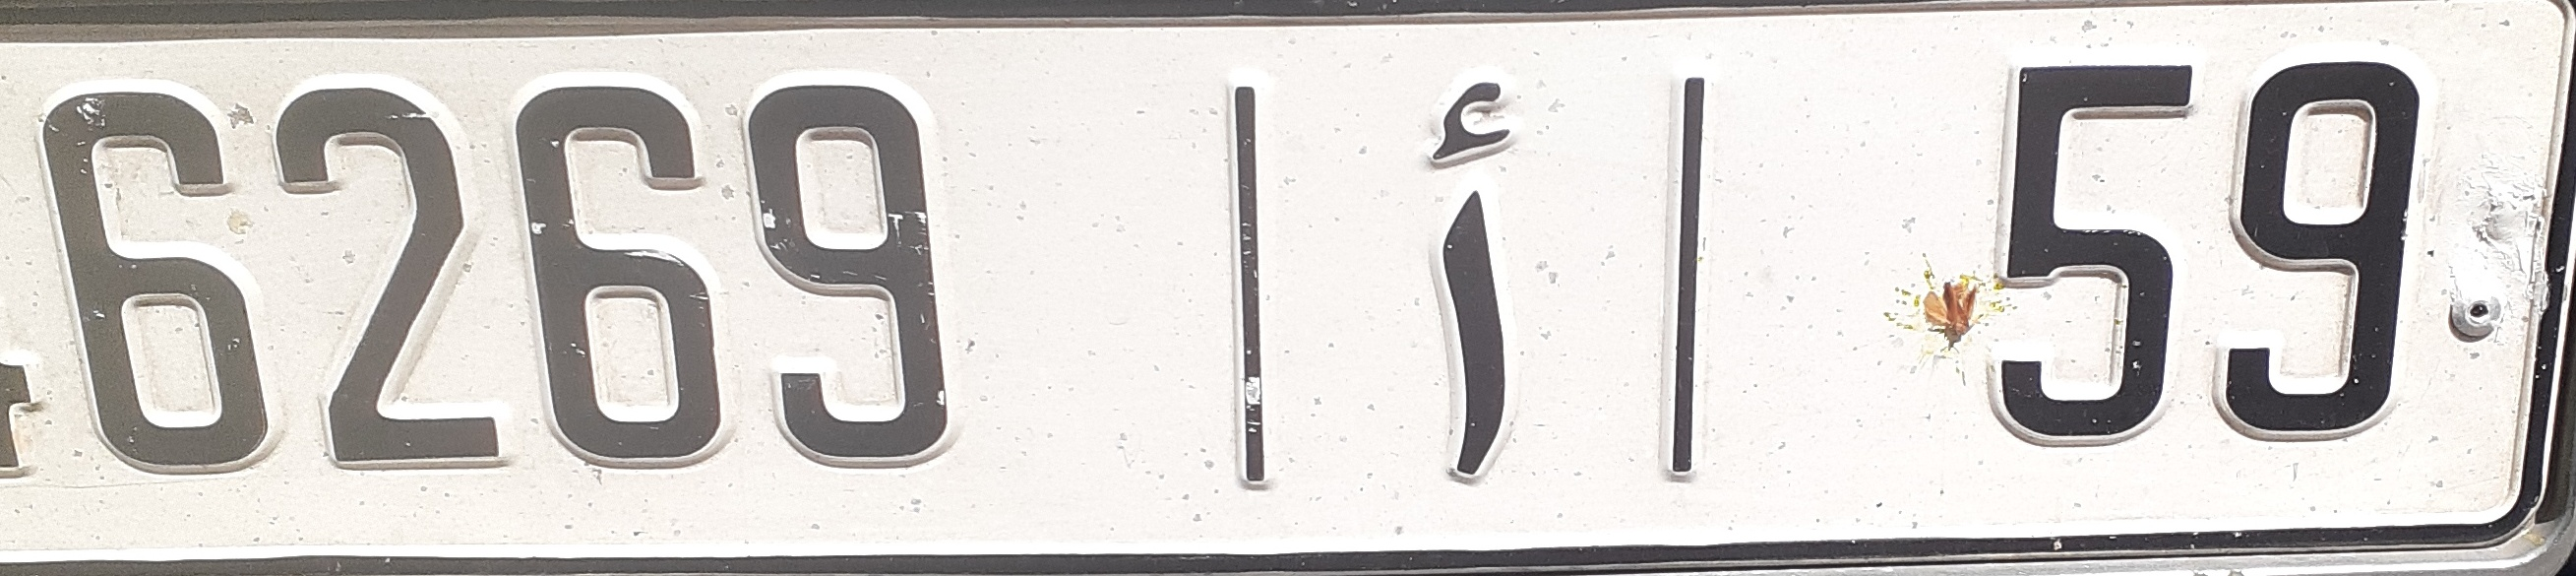2: (255, 74, 511, 484)
5: (1981, 46, 2212, 451)
6: (31, 74, 282, 487), (511, 68, 741, 481)
9: (735, 68, 972, 475), (2224, 52, 2436, 444)
a: (1400, 74, 1553, 484)
